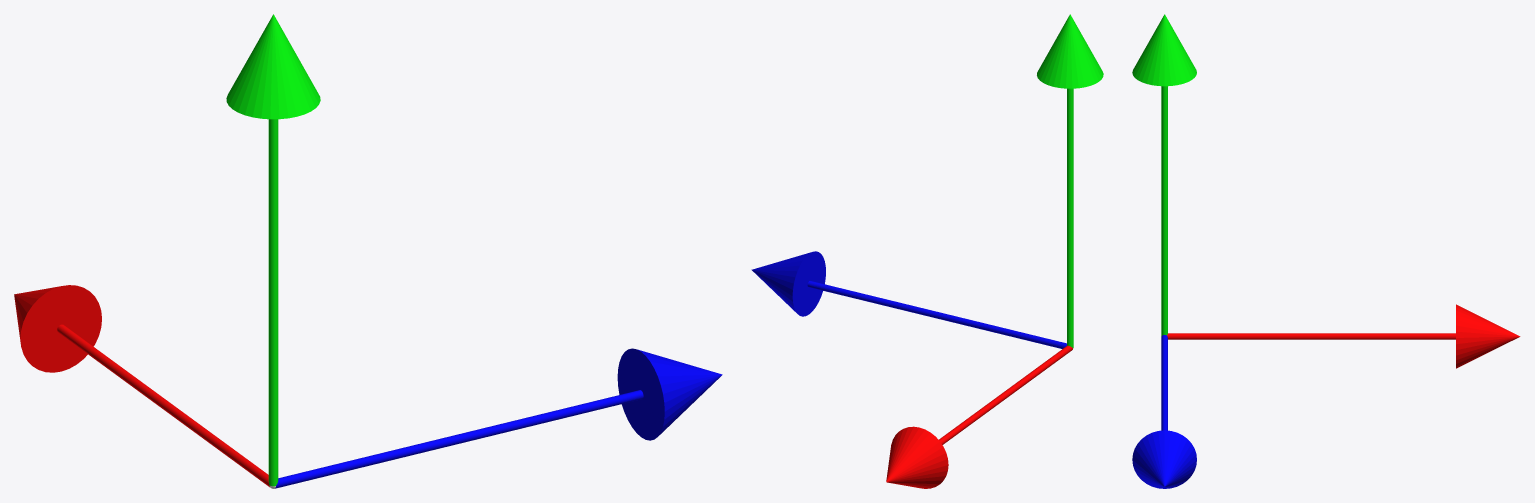
File: origin.dae
3 renders of one model, left to right at view 1: azimuth 30°, elevation 25°; view 2: azimuth 150°, elevation 25°; view 3: azimuth 270°, elevation 25°, orthographic. The views are drawn at different scales.
Parts seen in each view (by area): view 1: Cone, Cone.001, Cone.002, Cylinder.001, Cylinder.002, Cylinder; view 2: Cone, Cone.001, Cone.002, Cylinder.002, Cylinder.001, Cylinder; view 3: Cone.002, Cone.001, Cone, Cylinder, Cylinder.001, Cylinder.002.
Boxes of the visible parts, x1=… form: Cone: x1=14, y1=285, x2=101, y2=372; Cone.001: x1=226, y1=14, x2=320, y2=119; Cone.002: x1=617, y1=348, x2=722, y2=440; Cylinder.001: x1=268, y1=119, x2=278, y2=486; Cylinder.002: x1=275, y1=390, x2=643, y2=488; Cylinder: x1=57, y1=324, x2=269, y2=487; Cone: x1=886, y1=426, x2=948, y2=488; Cone.001: x1=1037, y1=14, x2=1103, y2=88; Cone.002: x1=751, y1=251, x2=825, y2=316; Cylinder.002: x1=807, y1=281, x2=1066, y2=348; Cylinder.001: x1=1067, y1=88, x2=1073, y2=347; Cylinder: x1=939, y1=345, x2=1072, y2=444; Cone.002: x1=1132, y1=430, x2=1196, y2=488; Cone.001: x1=1132, y1=14, x2=1196, y2=86; Cone: x1=1456, y1=304, x2=1520, y2=368; Cylinder: x1=1167, y1=333, x2=1455, y2=339; Cylinder.001: x1=1161, y1=86, x2=1167, y2=335; Cylinder.002: x1=1161, y1=335, x2=1167, y2=430.
Size of the model in its own units: 1.2 by 1.2 by 1.2.
